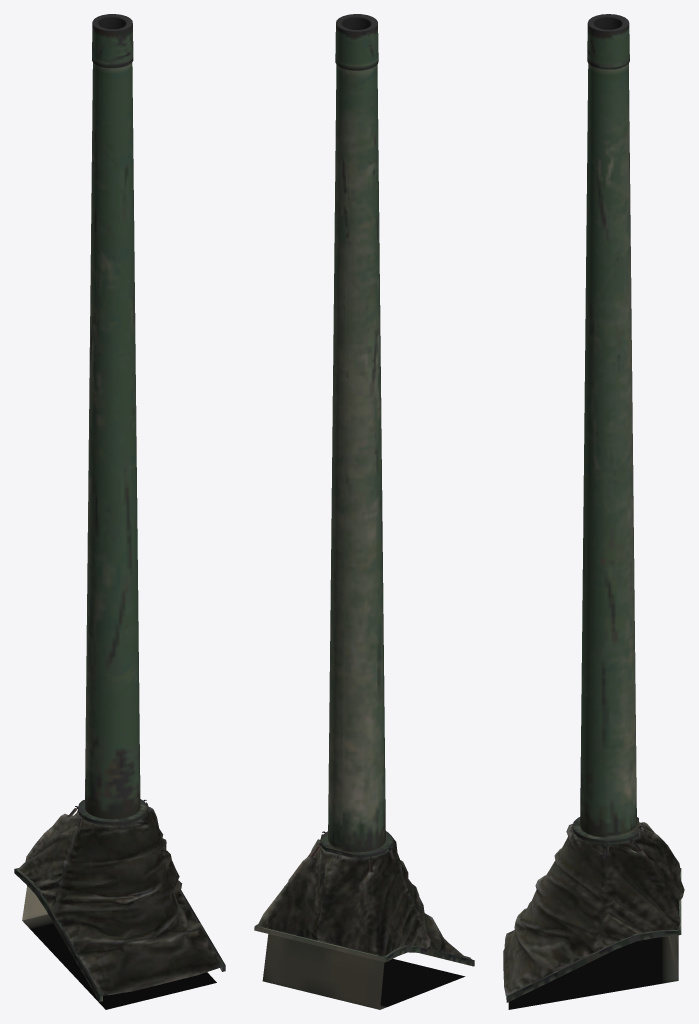
Rendered from Gun_04.glb.
The picture shows the model from 3 angles, left to right: view 1: azimuth 30°, elevation 25°; view 2: azimuth 150°, elevation 25°; view 3: azimuth 270°, elevation 25°; orthographic projection. The views are drawn at different scales.
Parts seen in each view (by area): view 1: set_0_group_0; view 2: set_0_group_0; view 3: set_0_group_0.
Boxes of the visible parts, bbox=[...] form: set_0_group_0: bbox=[14, 14, 225, 1009]; set_0_group_0: bbox=[254, 14, 474, 1009]; set_0_group_0: bbox=[503, 14, 684, 1009].
Size of the model in its own units: 0.4529 by 3.17 by 0.5421.
1 material, 1 textured.
